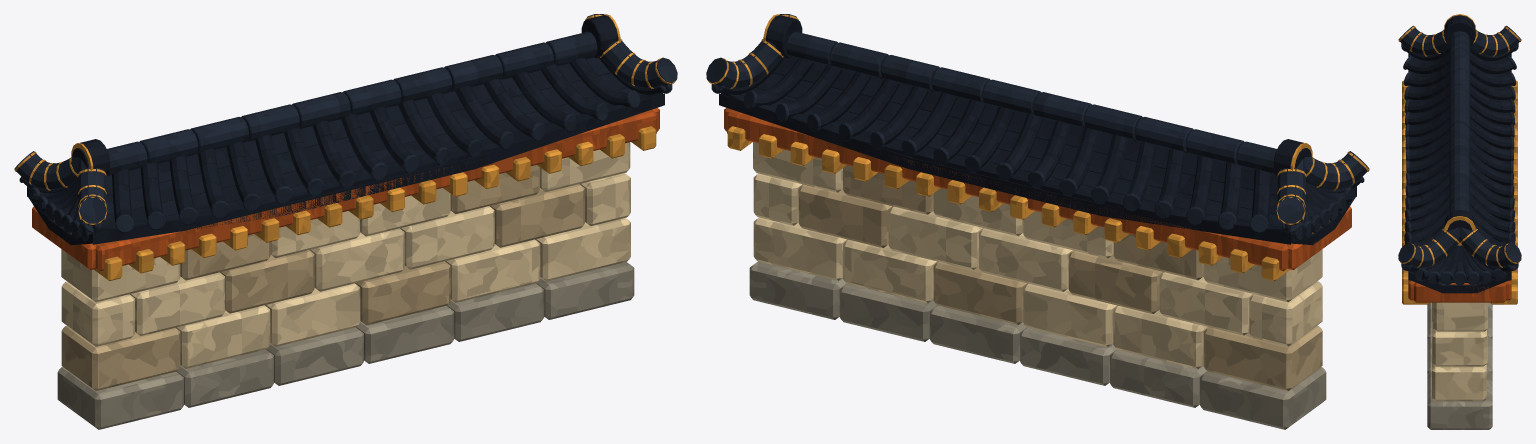
The model's file is Test_Cheon_Wall.fbx.
3 renders of one model, left to right at view 1: azimuth 30°, elevation 25°; view 2: azimuth 150°, elevation 25°; view 3: azimuth 270°, elevation 25°, orthographic. The views are drawn at different scales.
Visible parts, largest first — view 1: WallRoof_EaveFascia, WallRoof_Front_UnderRoof, Wall_Stone_Row0_Block00, Wall_Foundation_00, Wall_Stone_Row0_Block03, Wall_Stone_Row0_Block05, Wall_Stone_Row1_Block01, Wall_Stone_Row1_Block05, Wall_Stone_Row0_Block02, Wall_Stone_Row1_Block03, Wall_Stone_Row0_Block04, Wall_Stone_Row1_Block04 (+30 smaller); view 2: WallRoof_Back_UnderRoof, WallRoof_EaveFascia.001, Wall_Stone_Row0_Block00, Wall_Foundation_00, Wall_Stone_Row1_Block02, Wall_Stone_Row0_Block01, Wall_Stone_Row1_Block04, Wall_Stone_Row0_Block04, Wall_Stone_Row0_Block02, Wall_Stone_Row1_Block05, Wall_Stone_Row1_Block03, Wall_Stone_Row1_Block01 (+30 smaller); view 3: Wall_Foundation_05, Wall_Stone_Row0_Block05, Wall_Stone_Row1_Block06, Wall_Stone_Row2_Block05, WallRoof_SideFascia.001, WallRoof_Back_HipRoll_1, WallRoof_Front_HipRoll_1, WallRoof_Back_HipRoll_-1, WallRoof_Front_HipRoll_-1, WallRoof_HipSide_1, WallRoof_RidgeEndCap, WallRoof_RidgeTile_06 (+110 smaller).
Part boxes in pixels (x1,y1,x2,y2): WallRoof_EaveFascia: (95,110,656,271); WallRoof_Front_UnderRoof: (93,93,664,244); Wall_Stone_Row0_Block00: (61,326,180,390); Wall_Foundation_00: (57,367,183,429); Wall_Stone_Row0_Block03: (355,261,450,325); Wall_Stone_Row0_Block05: (535,218,630,281); Wall_Stone_Row1_Block01: (130,272,225,336); Wall_Stone_Row1_Block05: (489,184,584,247); Wall_Stone_Row0_Block02: (265,283,360,346); Wall_Stone_Row1_Block03: (309,228,404,291); Wall_Stone_Row0_Block04: (445,239,540,302); Wall_Stone_Row1_Block04: (400,206,494,269); WallRoof_Back_UnderRoof: (719,93,1290,244); WallRoof_EaveFascia.001: (727,110,1288,271); Wall_Stone_Row0_Block00: (1203,325,1322,390); Wall_Foundation_00: (1200,367,1326,429); Wall_Stone_Row1_Block02: (1068,250,1164,313); Wall_Stone_Row0_Block01: (1113,306,1208,369); Wall_Stone_Row1_Block04: (888,206,984,269); Wall_Stone_Row0_Block04: (843,240,938,303); Wall_Stone_Row0_Block02: (1023,284,1118,347); Wall_Stone_Row1_Block05: (798,184,893,247); Wall_Stone_Row1_Block03: (979,228,1073,291); Wall_Stone_Row1_Block01: (1159,272,1254,335); Wall_Foundation_05: (1427,371,1492,429); Wall_Stone_Row0_Block05: (1432,340,1486,401); Wall_Stone_Row1_Block06: (1432,321,1486,366); Wall_Stone_Row2_Block05: (1433,302,1487,331); WallRoof_SideFascia.001: (1414,282,1505,302); WallRoof_Back_HipRoll_1: (1460,227,1521,267); WallRoof_Front_HipRoll_1: (1398,227,1459,267); WallRoof_Back_HipRoll_-1: (1466,25,1521,55); WallRoof_Front_HipRoll_-1: (1398,25,1453,55); WallRoof_HipSide_1: (1408,272,1511,293); WallRoof_RidgeEndCap: (1444,15,1475,45); WallRoof_RidgeTile_06: (1449,144,1470,172).
Size of the model in its own units: 5.63 by 2.45 by 1.29.
8 materials, 8 textured.
